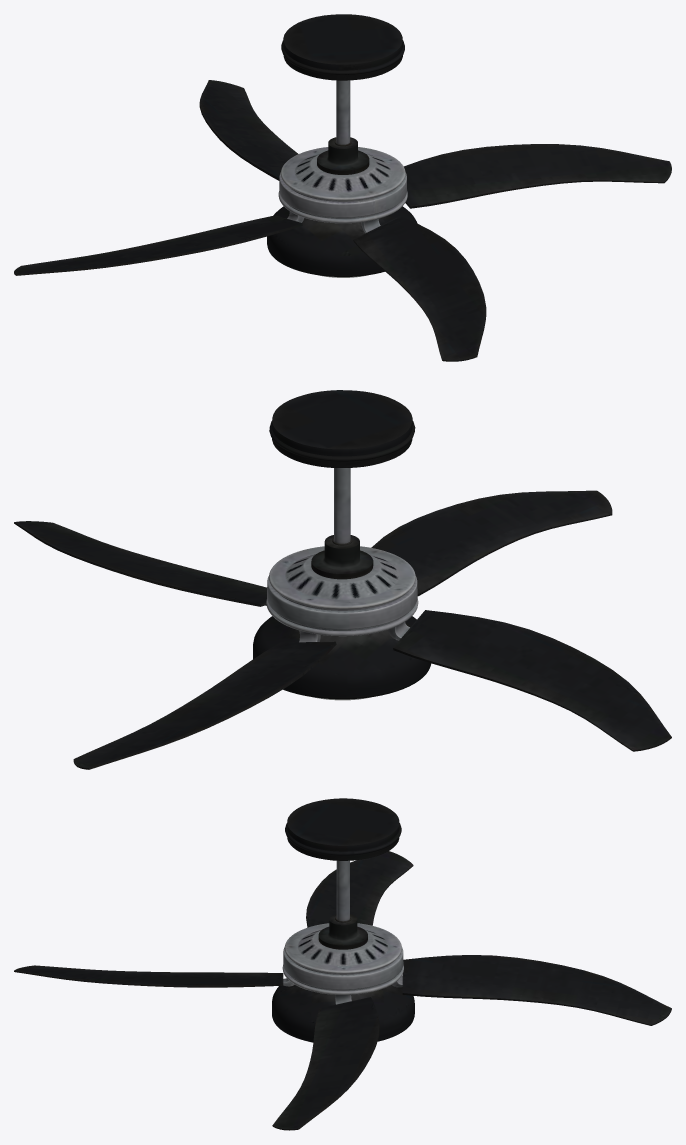
Rendered from ph_ceiling_fan.glb.
3 views of the same model, one above another, from view 1: azimuth 30°, elevation 25°; view 2: azimuth 150°, elevation 25°; view 3: azimuth 270°, elevation 25° (orthographic). The views are drawn at different scales.
Parts seen in each view (by area): view 1: ceiling_fan; view 2: ceiling_fan; view 3: ceiling_fan.
Part boxes in pixels (<box>): ceiling_fan: <box>14,14,671,361</box>; ceiling_fan: <box>14,390,671,769</box>; ceiling_fan: <box>14,798,671,1130</box>.
Bounding box in the file's own units: 1.46 × 0.5163 × 1.46.
1 material, 1 textured.
